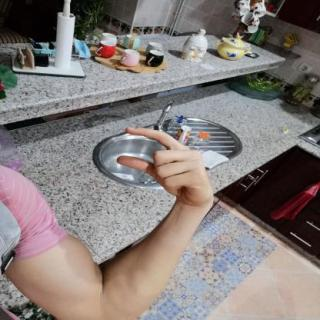DELL: (104, 119, 220, 209)
